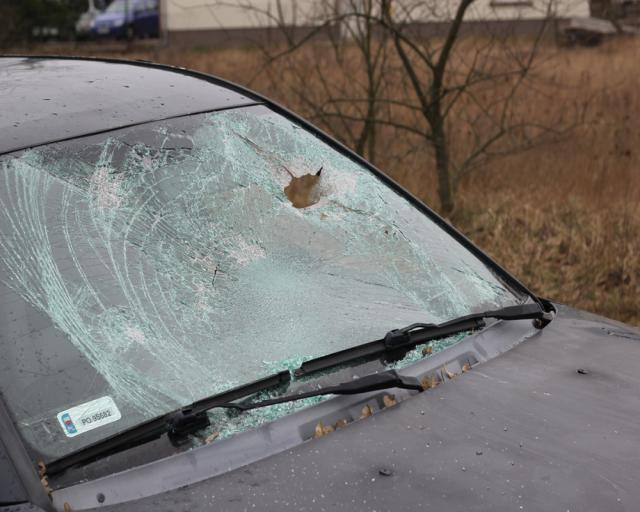glass shatter: (0, 104, 527, 492)
